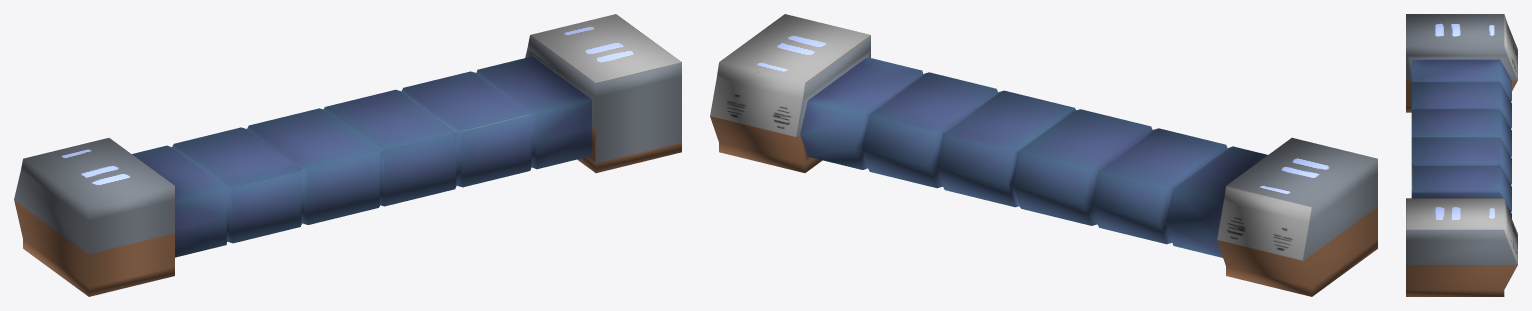
The model's file is Bench.fbx.
3 renders of one model, left to right at view 1: azimuth 30°, elevation 25°; view 2: azimuth 150°, elevation 25°; view 3: azimuth 270°, elevation 25°, orthographic. The views are drawn at different scales.
Visible parts, largest first — view 1: Cube.002; view 2: Cube.002; view 3: Cube.002.
Part boxes in pixels (bbox=[...]): Cube.002: bbox=[14, 14, 681, 296]; Cube.002: bbox=[710, 14, 1377, 296]; Cube.002: bbox=[1406, 14, 1517, 296].
Size of the model in its own units: 344 by 49.89 by 75.28.
Materials: 1 (1 with a texture image).
